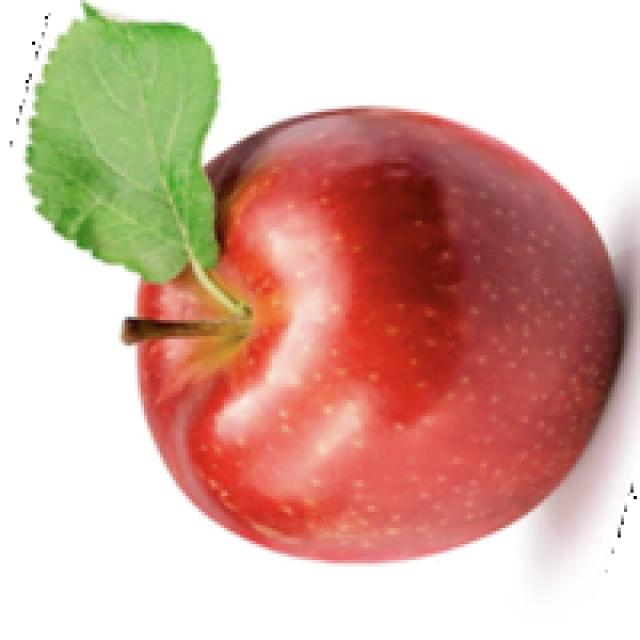apple: (13, 0, 637, 579)
